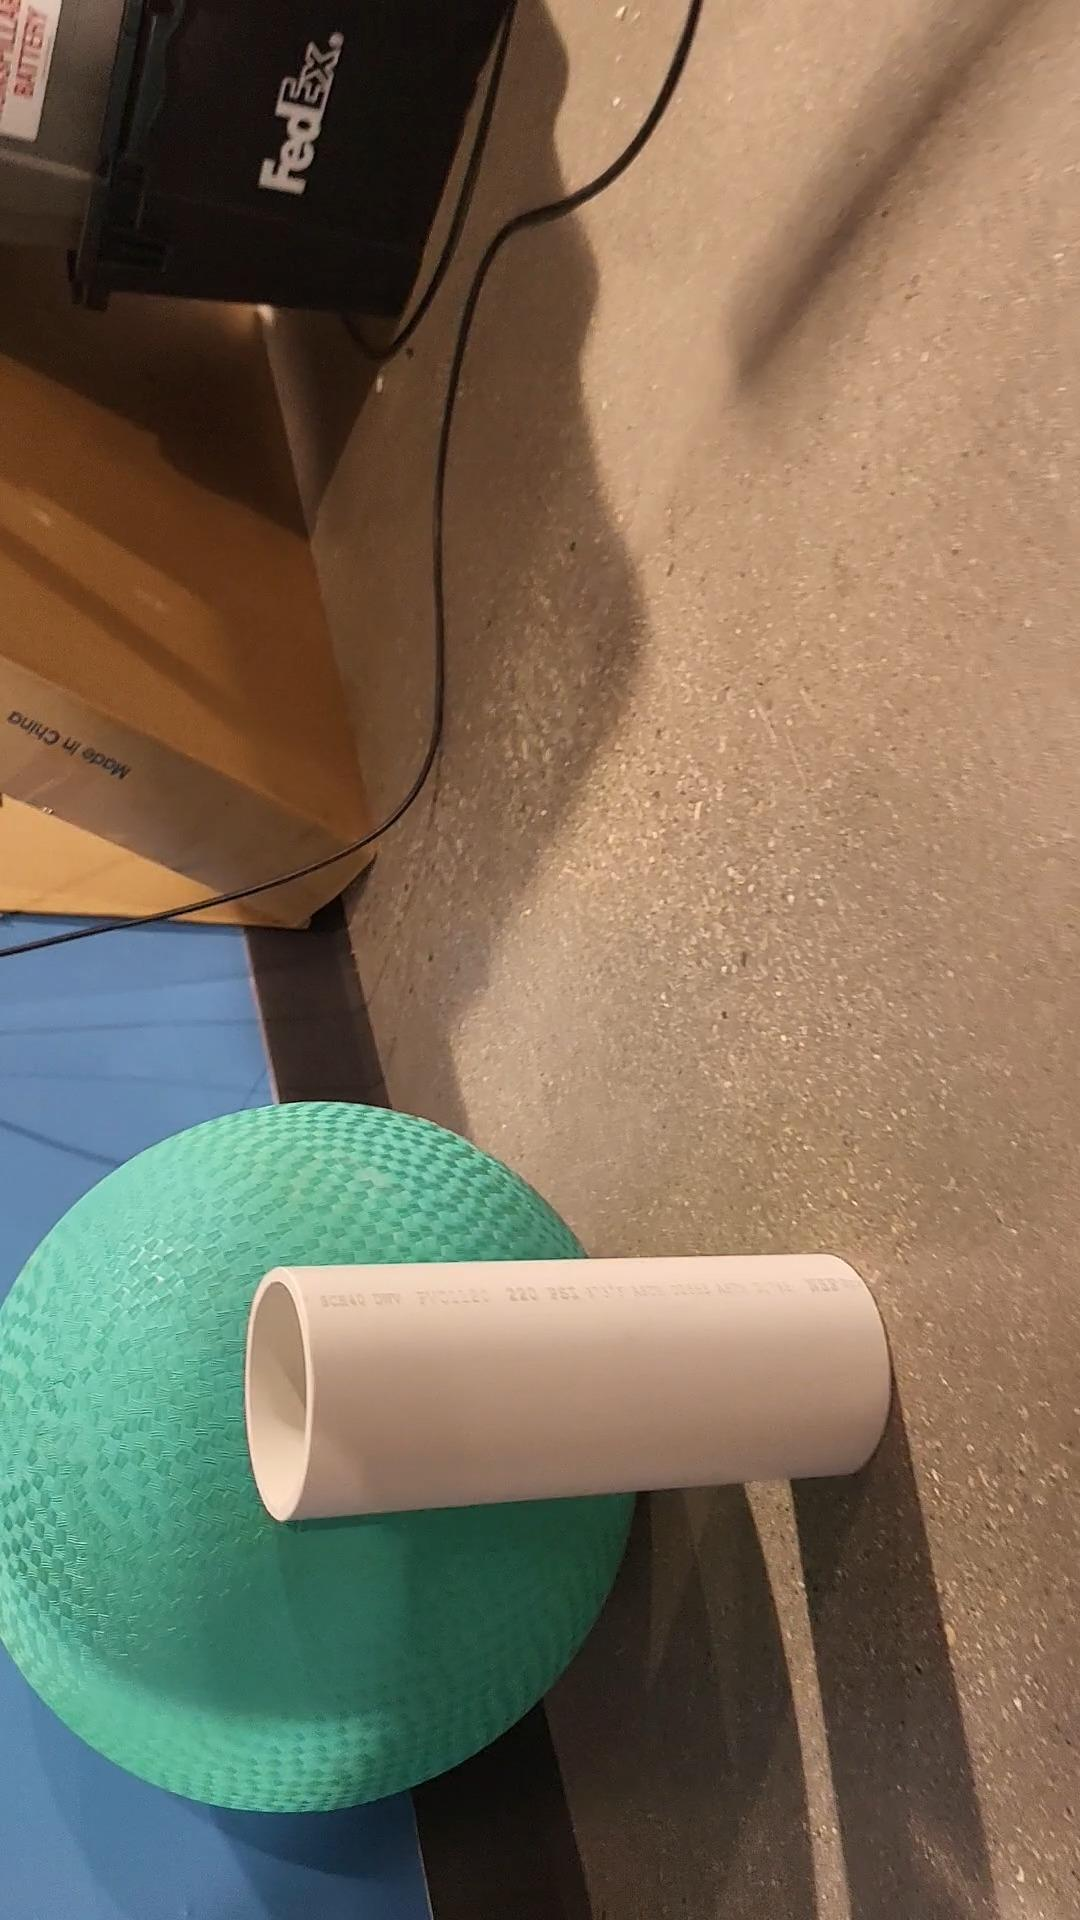algae: (0, 1100, 630, 1812)
coral: (248, 1253, 893, 1518)
